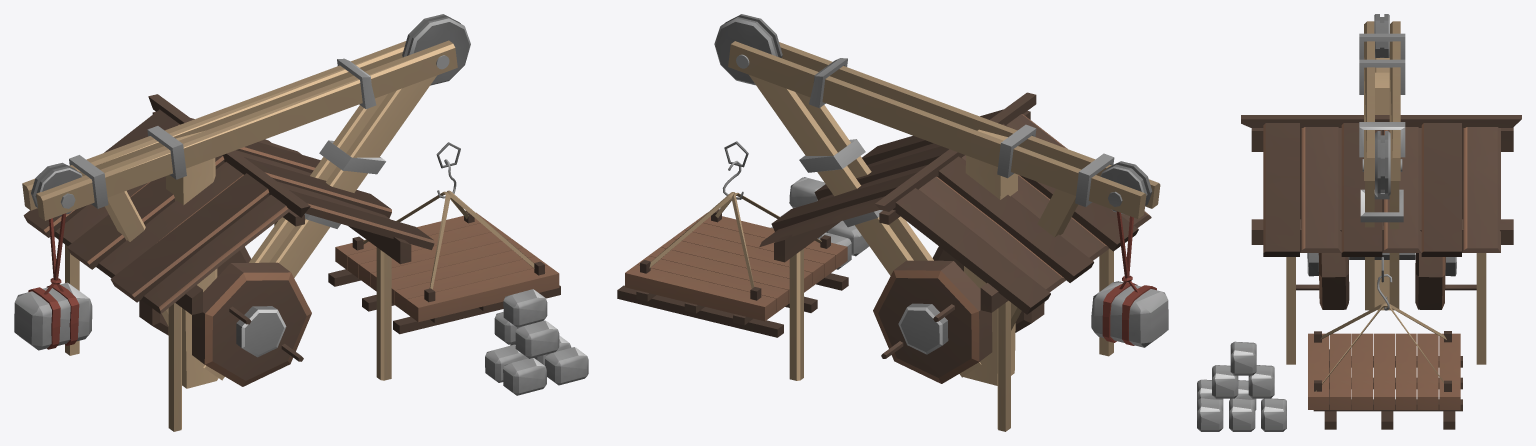
File: winch_2lvl_separate.fbx
3 views of the same model, side by side, from view 1: azimuth 30°, elevation 25°; view 2: azimuth 150°, elevation 25°; view 3: azimuth 270°, elevation 25° (orthographic). The views are drawn at different scales.
Parts seen in each view (by area): view 1: winch_2lvl_sep, base_ver2, thebiggest_wheel_ver2, polySurface5, big_wheel, small_wheel; view 2: winch_2lvl_sep, base_ver2, thebiggest_wheel_ver2, polySurface5, big_wheel, small_wheel; view 3: winch_2lvl_sep, base_ver2, thebiggest_wheel_ver2, big_wheel, small_wheel.
Part boxes in pixels (box(x1,y1,x2,y2)): winch_2lvl_sep: box(22, 40, 588, 431); base_ver2: box(328, 142, 560, 334); thebiggest_wheel_ver2: box(139, 246, 311, 386); polySurface5: box(14, 213, 92, 350); big_wheel: box(402, 14, 470, 85); small_wheel: box(31, 162, 82, 216); winch_2lvl_sep: box(728, 41, 1160, 431); base_ver2: box(617, 141, 848, 337); thebiggest_wheel_ver2: box(873, 246, 1044, 383); polySurface5: box(1091, 211, 1168, 347); big_wheel: box(714, 14, 782, 85); small_wheel: box(1100, 161, 1152, 214); winch_2lvl_sep: box(1197, 21, 1521, 431); base_ver2: box(1308, 257, 1462, 429); thebiggest_wheel_ver2: box(1296, 253, 1476, 309); big_wheel: box(1375, 131, 1390, 197); small_wheel: box(1374, 14, 1389, 57).
Bounding box in the file's own units: 7.18 × 4.07 × 4.35.
